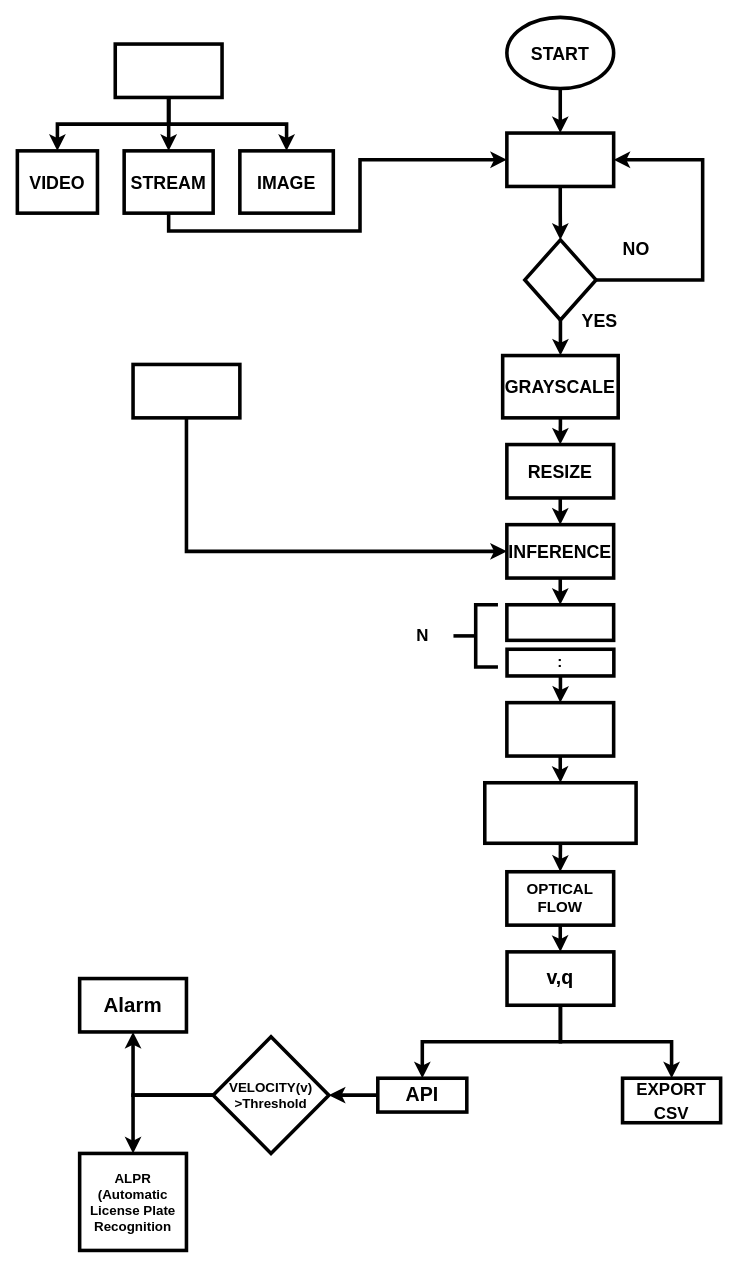
The diagram is 738 pixels wide and 1267 high, and some of its shapes have lost their labels. Each missing label, with the centre of its shape:
(X,Y) (W,H): the point at 560,622
DRAW BOXES: the point at 560,728
FRAME GRAB: the point at 560,159
ROI(REGION OF INTEREST) EXTRACTOR: the point at 560,813
SOURCE: the point at 168,70
VALID: the point at 560,279
YOLOv5 mode: the point at 186,390
